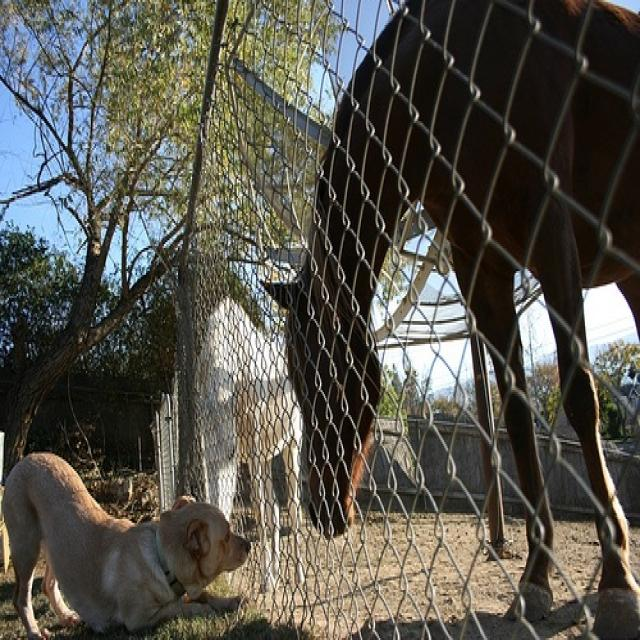dog: (0, 450, 251, 632)
horse: (258, 4, 638, 638), (202, 298, 307, 584)
